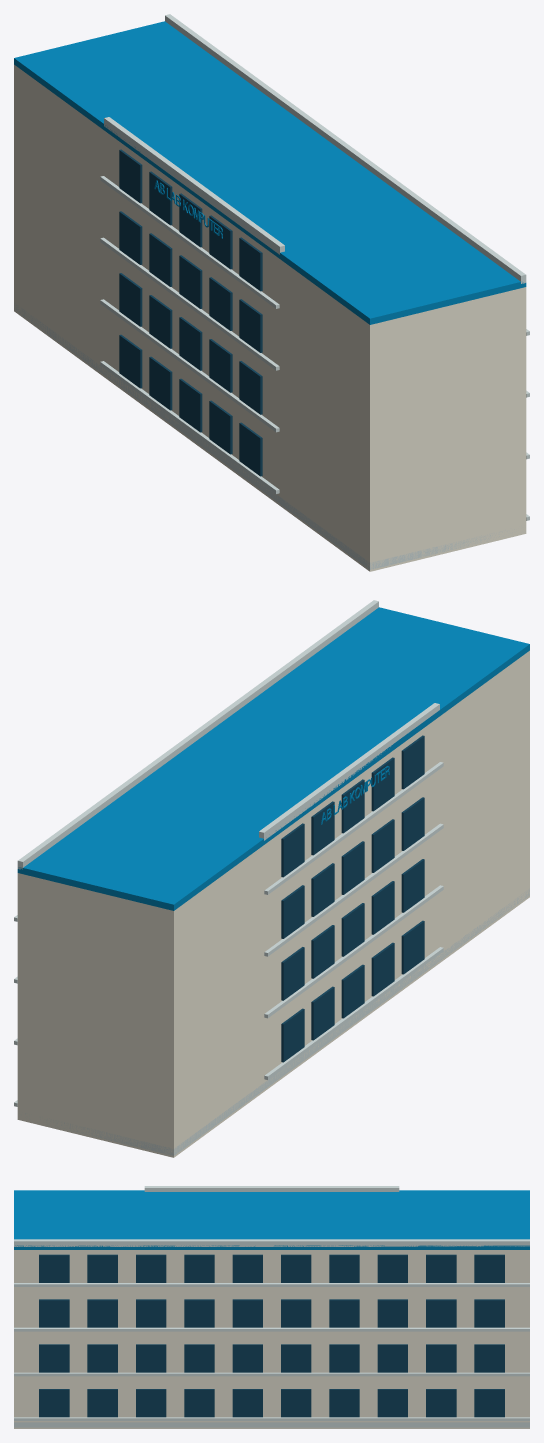
File: lab-komputer-fkip.glb
The picture shows the model from 3 angles, top to bottom: view 1: azimuth 30°, elevation 25°; view 2: azimuth 150°, elevation 25°; view 3: azimuth 270°, elevation 25°; orthographic projection. The views are drawn at different scales.
Parts seen in each view (by area): view 1: Lab_Komputer_FKIP_ivory, Lab_Komputer_FKIP_blue, Lab_Komputer_FKIP_glass, Lab_Komputer_FKIP_trim; view 2: Lab_Komputer_FKIP_ivory, Lab_Komputer_FKIP_blue, Lab_Komputer_FKIP_glass, Lab_Komputer_FKIP_trim; view 3: Lab_Komputer_FKIP_ivory, Lab_Komputer_FKIP_glass, Lab_Komputer_FKIP_blue, Lab_Komputer_FKIP_trim.
Part boxes in pixels (bbox=[...]): Lab_Komputer_FKIP_ivory: bbox=[14, 64, 526, 571]; Lab_Komputer_FKIP_blue: bbox=[14, 21, 526, 324]; Lab_Komputer_FKIP_glass: bbox=[119, 149, 262, 476]; Lab_Komputer_FKIP_trim: bbox=[14, 14, 529, 569]; Lab_Komputer_FKIP_ivory: bbox=[17, 650, 529, 1157]; Lab_Komputer_FKIP_blue: bbox=[17, 607, 529, 910]; Lab_Komputer_FKIP_glass: bbox=[281, 735, 424, 1062]; Lab_Komputer_FKIP_trim: bbox=[14, 600, 529, 1155]; Lab_Komputer_FKIP_ivory: bbox=[14, 1250, 529, 1428]; Lab_Komputer_FKIP_glass: bbox=[39, 1254, 504, 1417]; Lab_Komputer_FKIP_blue: bbox=[14, 1190, 529, 1249]; Lab_Komputer_FKIP_trim: bbox=[14, 1186, 529, 1427].
Bounding box in the file's own units: 9.44 × 14.27 × 35.56.
